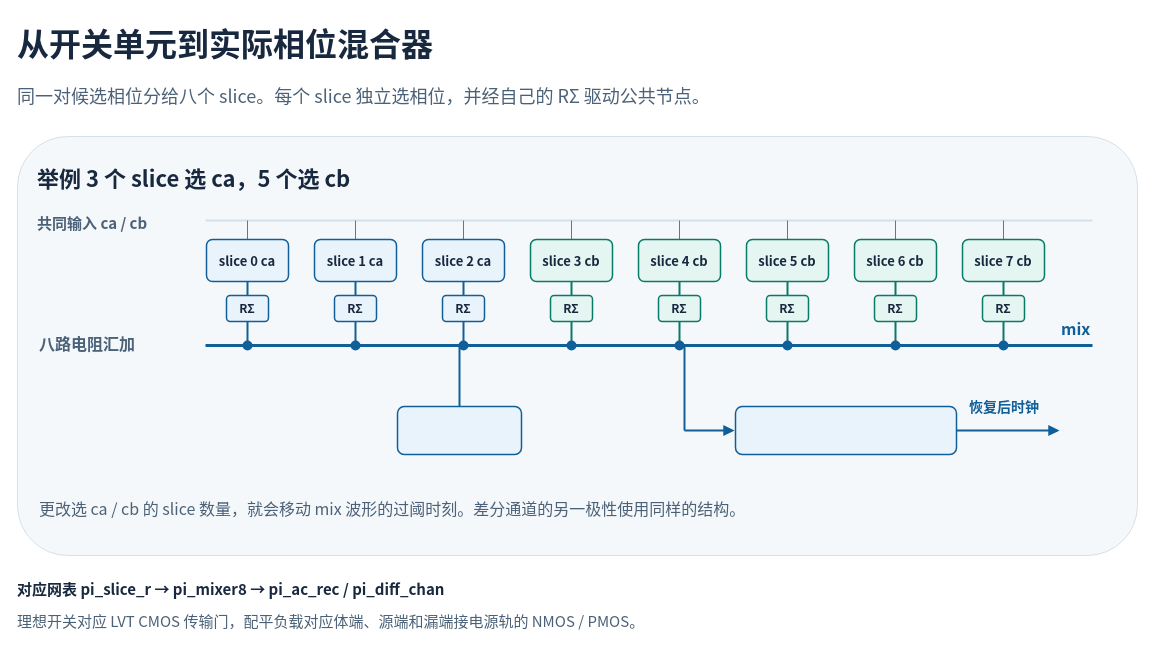
Image size: 1155x649. Some labels were removed from this diagram. Here are the shapes that lost their labels. From the top down, the box of each, then its label:
(396, 405, 522, 455): Cmix → VSS
(734, 405, 957, 455): AC 耦合 + CMOS 恢复
